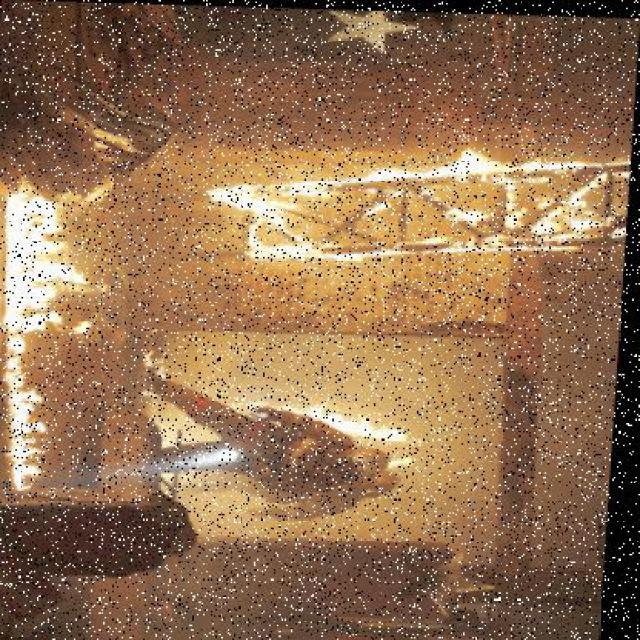fire: (1, 197, 81, 497)
